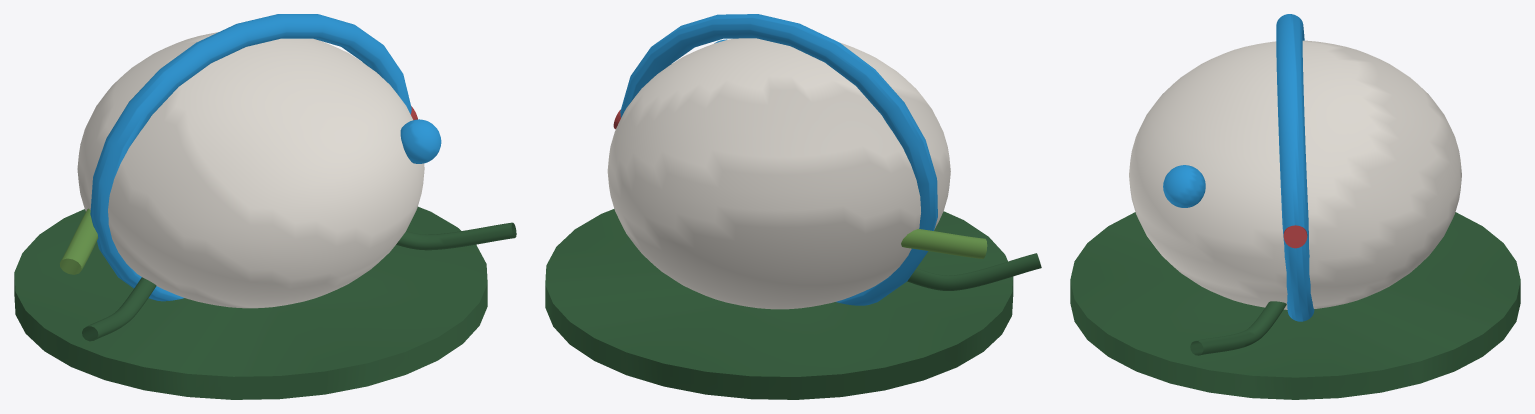
Rendered from 1223_细胞图鉴_基质.glb.
3 views of the same model, side by side, from view 1: azimuth 30°, elevation 25°; view 2: azimuth 150°, elevation 25°; view 3: azimuth 270°, elevation 25° (orthographic). The views are drawn at different scales.
Parts seen in each view (by area): view 1: card_1223; view 2: card_1223; view 3: card_1223.
Boxes of the visible parts, left/top/right/bottom form: card_1223: left=14, top=14, right=516, bottom=399; card_1223: left=545, top=14, right=1041, bottom=399; card_1223: left=1070, top=14, right=1520, bottom=399.
Bounding box in the file's own units: 1.6 × 1 × 1.49.
